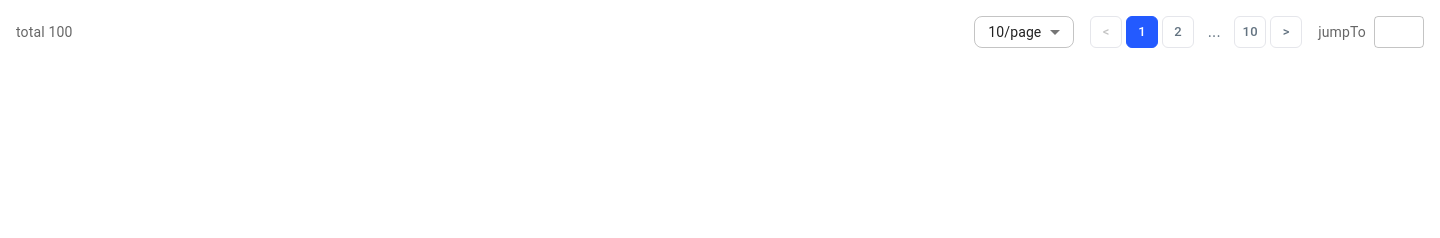
Test: TablePagination › renders MenuItem components
Press the mouse on the dropdown labelled "10/page" at [1015, 32], box [988,24,1041,40]
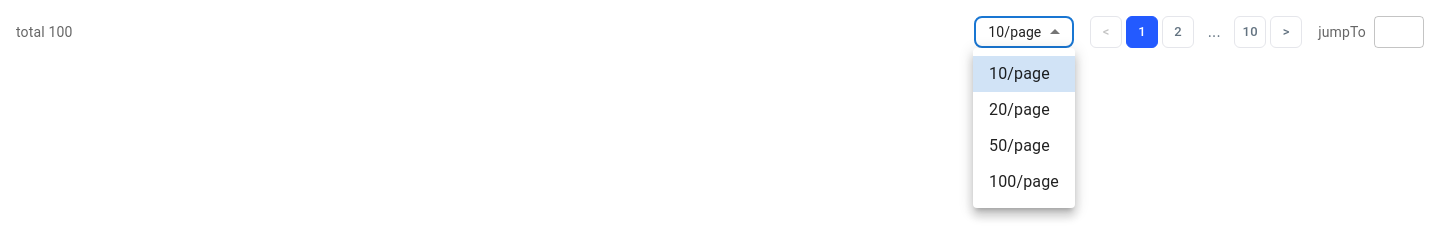
Check: the option "10/page" is shown, box [973,56,1075,92]
